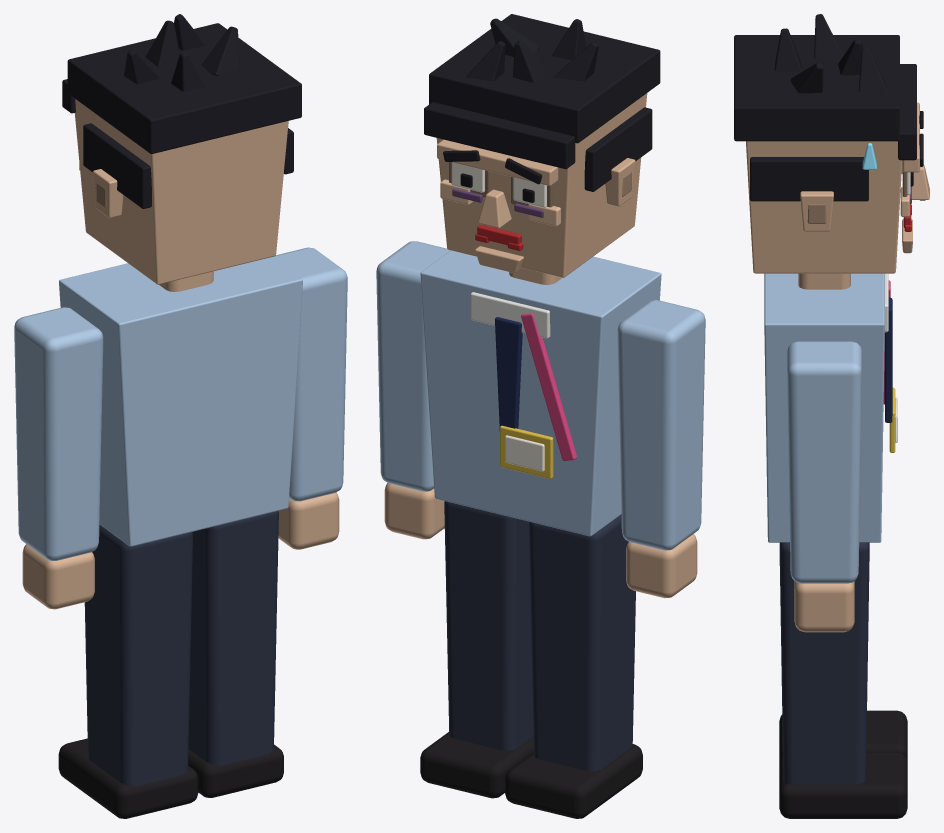
File: tong.glb
The picture shows the model from 3 angles, left to right: view 1: azimuth 30°, elevation 25°; view 2: azimuth 150°, elevation 25°; view 3: azimuth 270°, elevation 25°; orthographic projection.
Parts seen in each view (by area): view 1: Torso, Head, LegL, ArmL, LegR, ArmR, NeckMesh; view 2: Torso, Head, LegL, LegR, ArmL, ArmR; view 3: Head, LegR, ArmR, Torso, LegL, NeckMesh.
Boxes of the visible parts, x1,y1,x2,y2 form: Torso: [59, 257, 302, 546]; Head: [62, 14, 301, 284]; LegL: [58, 524, 198, 818]; ArmL: [14, 307, 103, 609]; LegR: [188, 511, 283, 797]; ArmR: [273, 247, 347, 549]; NeckMesh: [159, 271, 213, 291]; Torso: [420, 250, 661, 536]; Head: [424, 14, 660, 277]; LegL: [505, 514, 642, 818]; LegR: [420, 501, 533, 798]; ArmL: [617, 300, 705, 598]; ArmR: [376, 241, 450, 539]; Head: [734, 14, 929, 273]; LegR: [779, 542, 907, 818]; ArmR: [787, 341, 862, 632]; Torso: [764, 273, 897, 542]; LegL: [779, 710, 907, 761]; NeckMesh: [798, 273, 850, 289].
Bounding box in the file's own units: 0.9192 × 2.18 × 0.5191.
